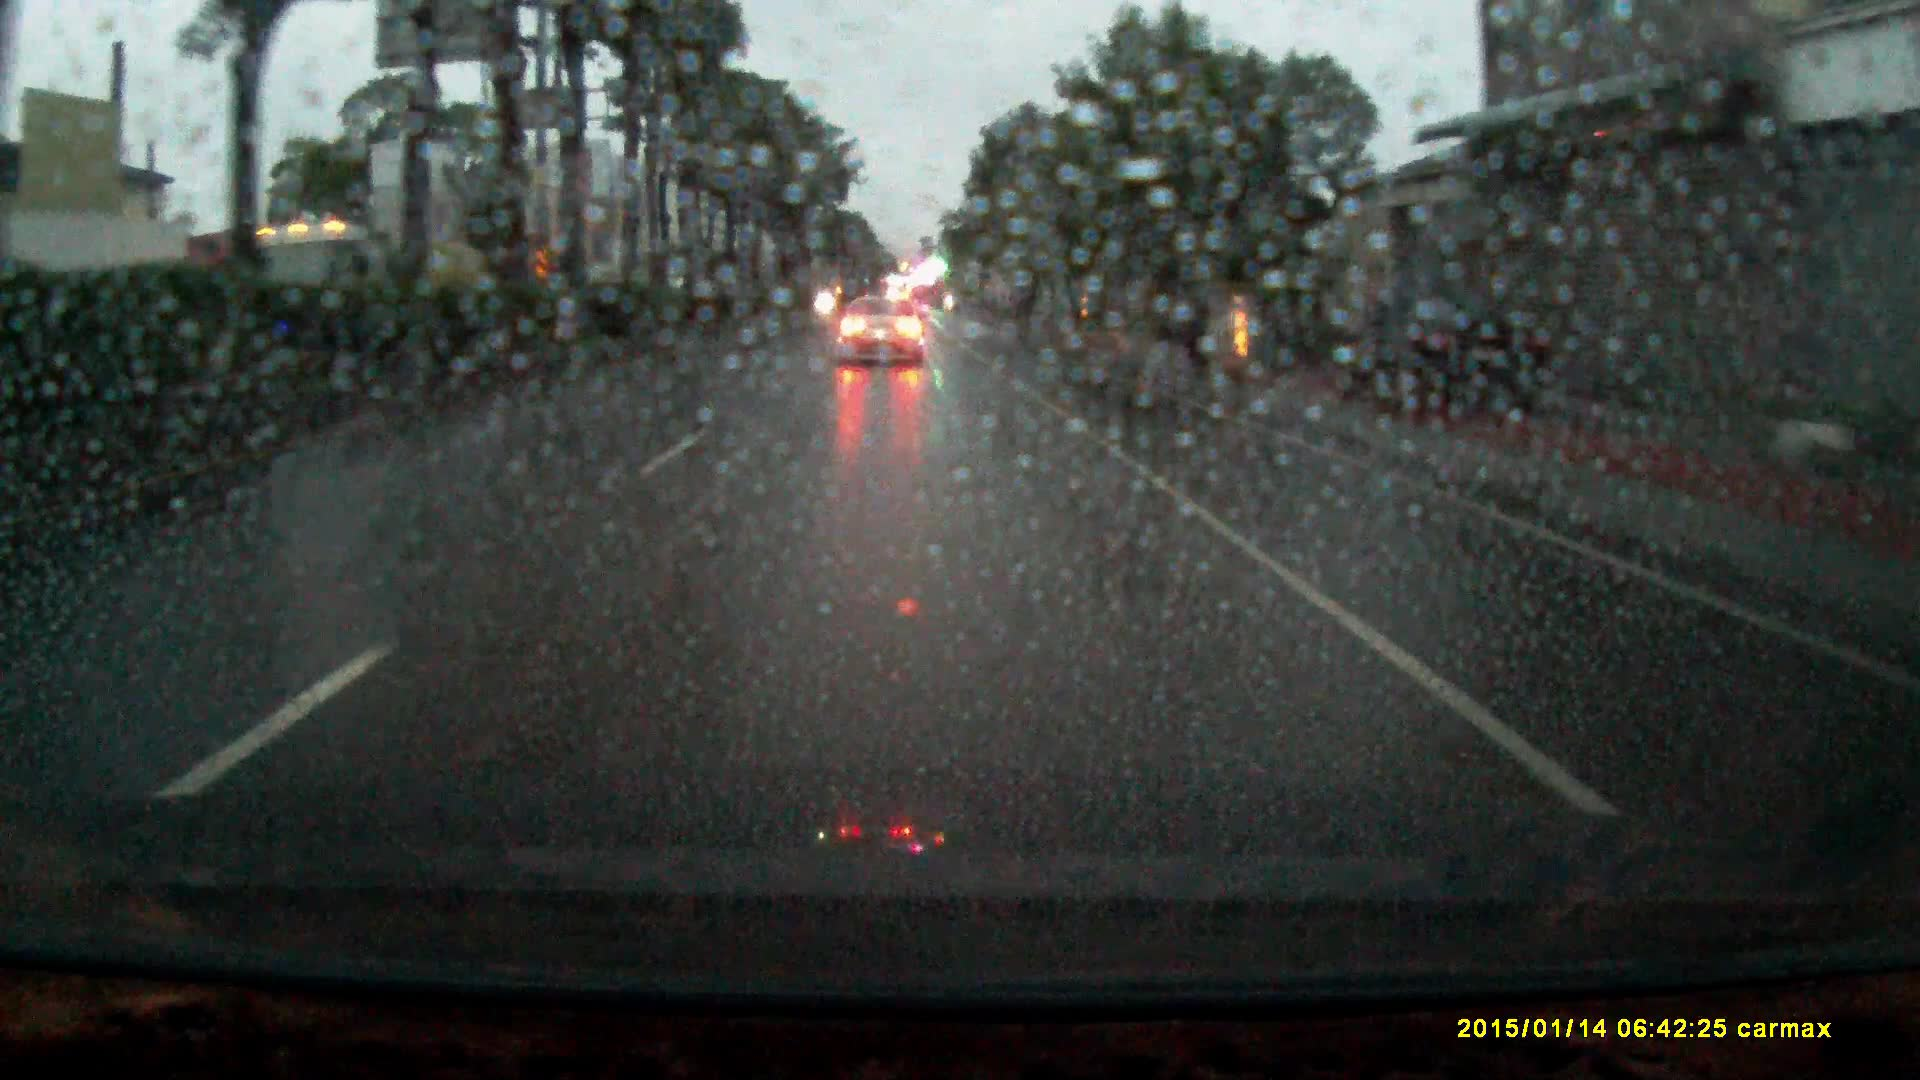vehicle: (222, 223, 487, 355), (1348, 291, 1542, 423), (835, 302, 927, 372)
